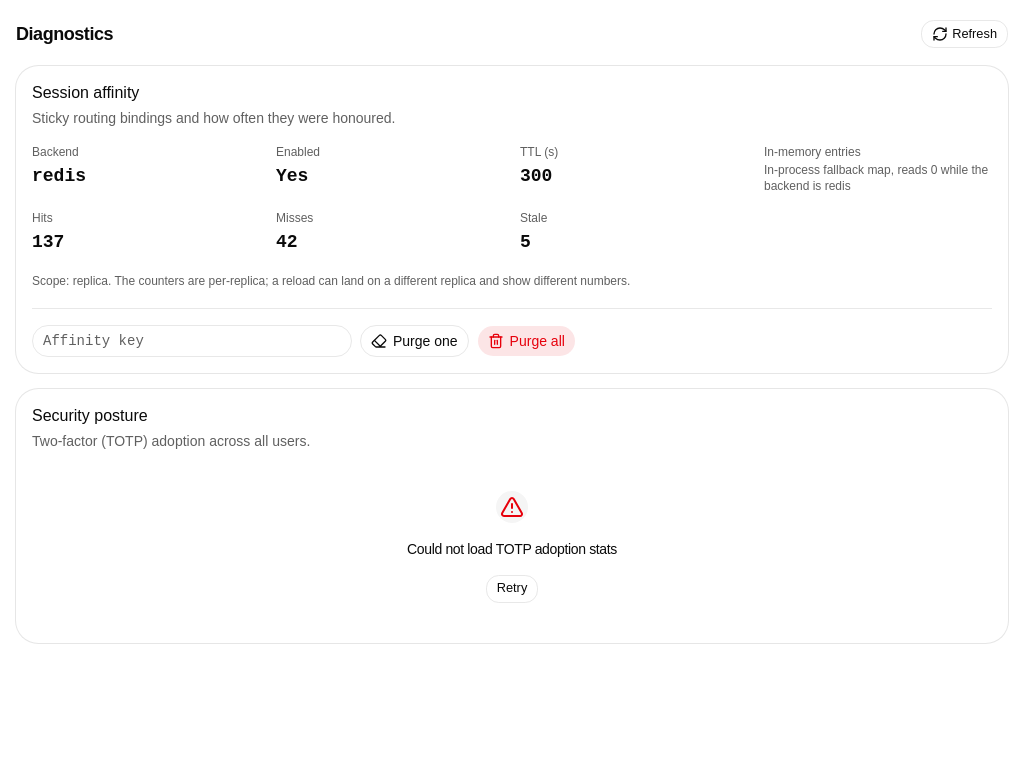
Test: affinity + TOTP panels › lets the operator retry just the panel that failed
Click the button "Retry": (512, 588) top-left (486, 574), bottom-right (538, 602)
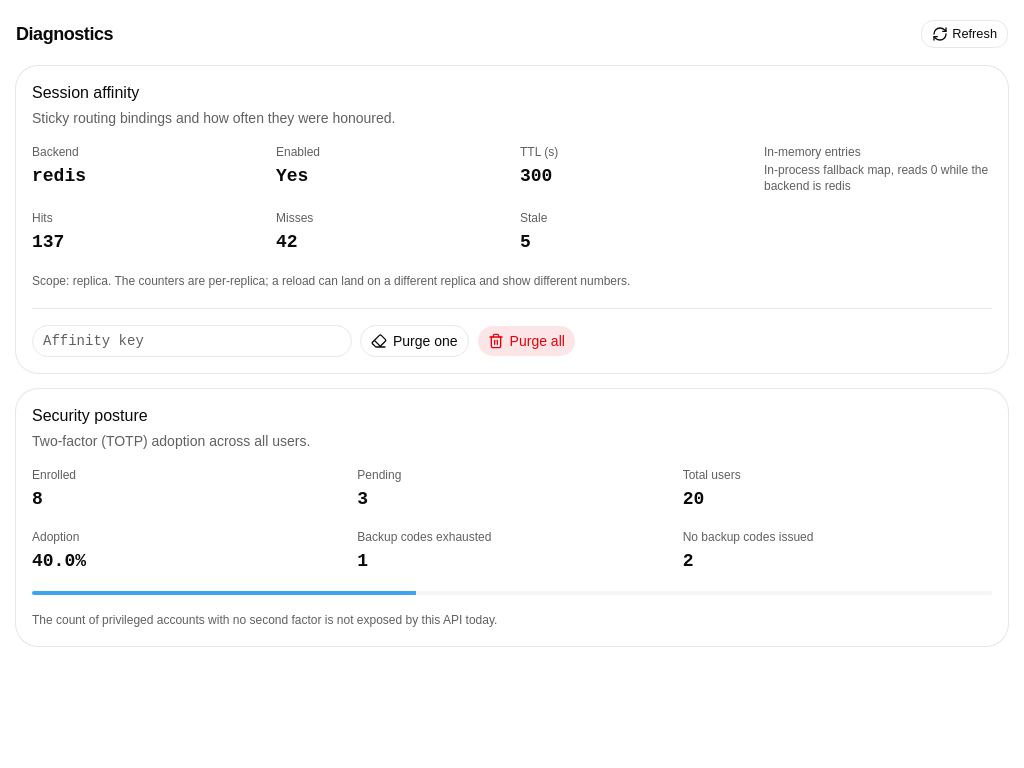
Result: the text "8" is shown at top-left (32, 488), bottom-right (43, 508)
